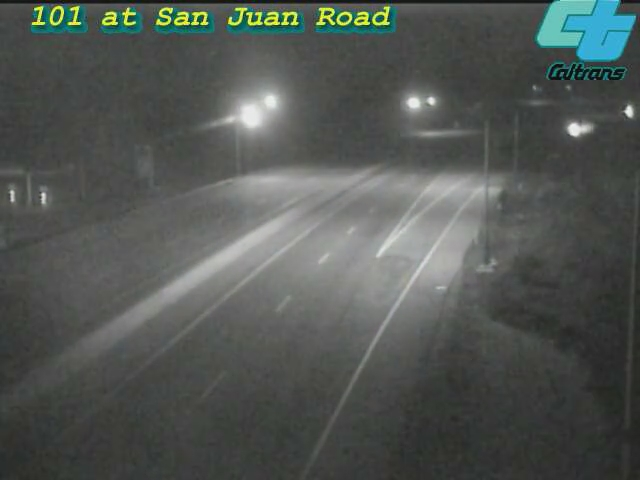vehicle: (552, 105, 602, 155), (603, 88, 640, 138)
